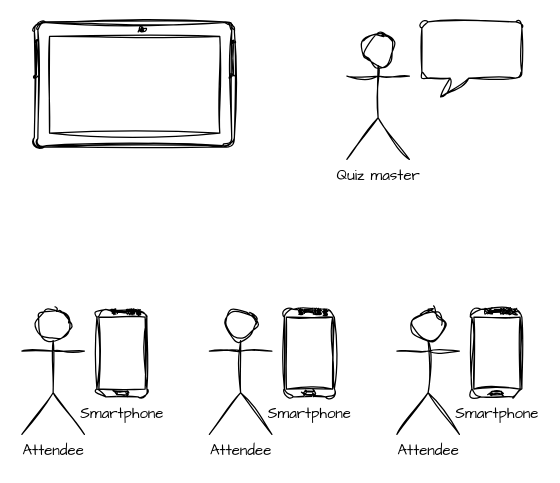
Image size: 560x483. Some labels were removed from this diagram. Each missing label, with the centre of its shape:
"Big public screen" goes at (x=133, y=84).
"I have a question for you" goes at (x=471, y=59).
